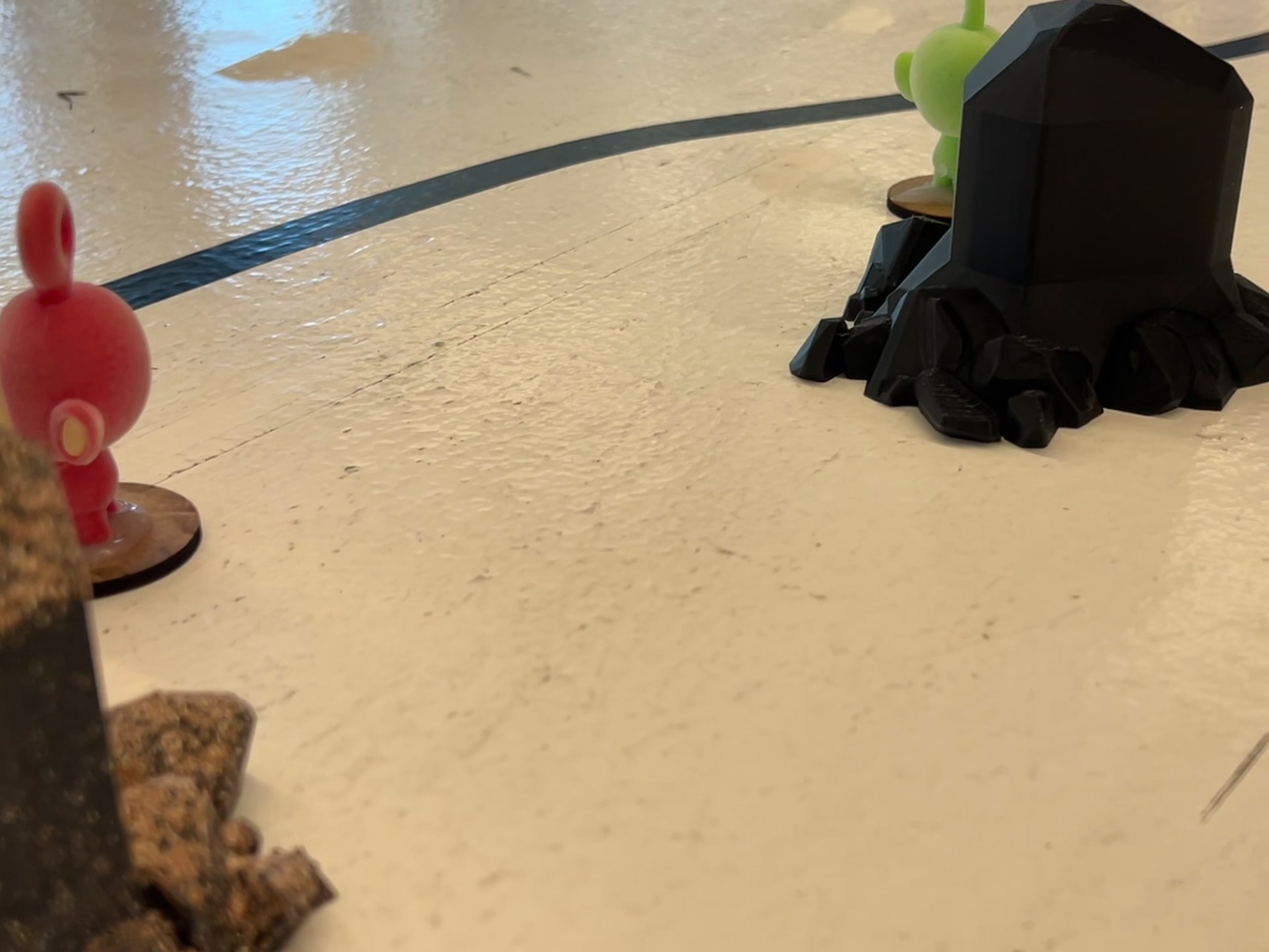teletubby: (0, 182, 151, 545), (894, 0, 1000, 192)
